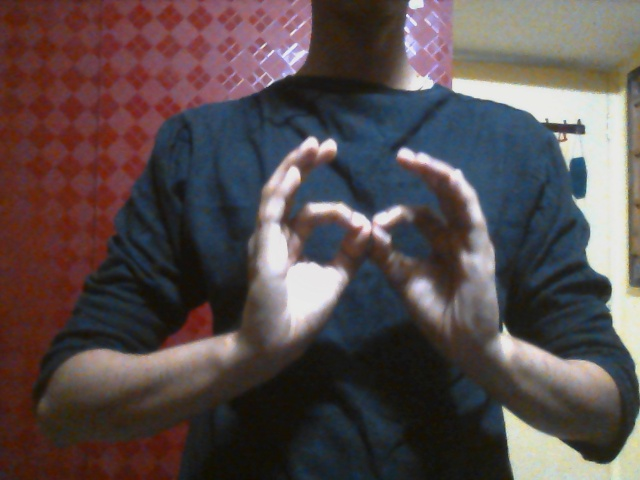B: (225, 135, 503, 391)
